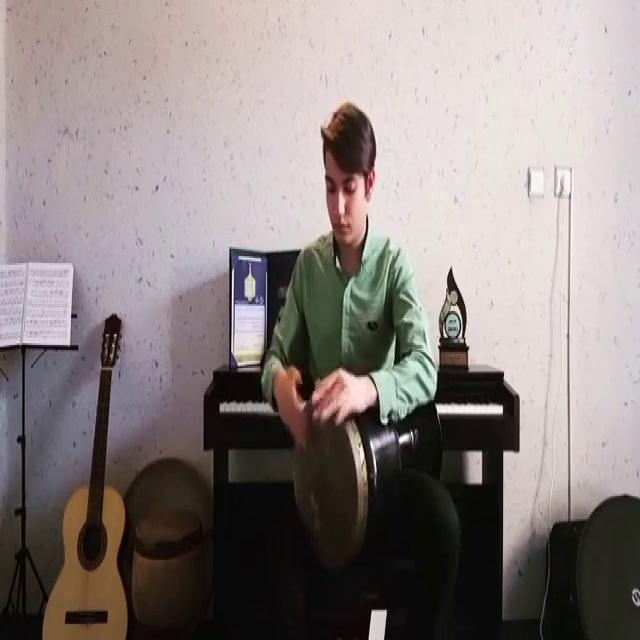Guitar: (38, 292, 142, 640)
Tombak: (291, 397, 440, 577)
